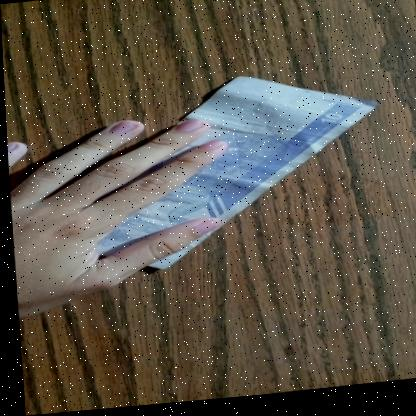ten-back-vef: (68, 68, 387, 280)
